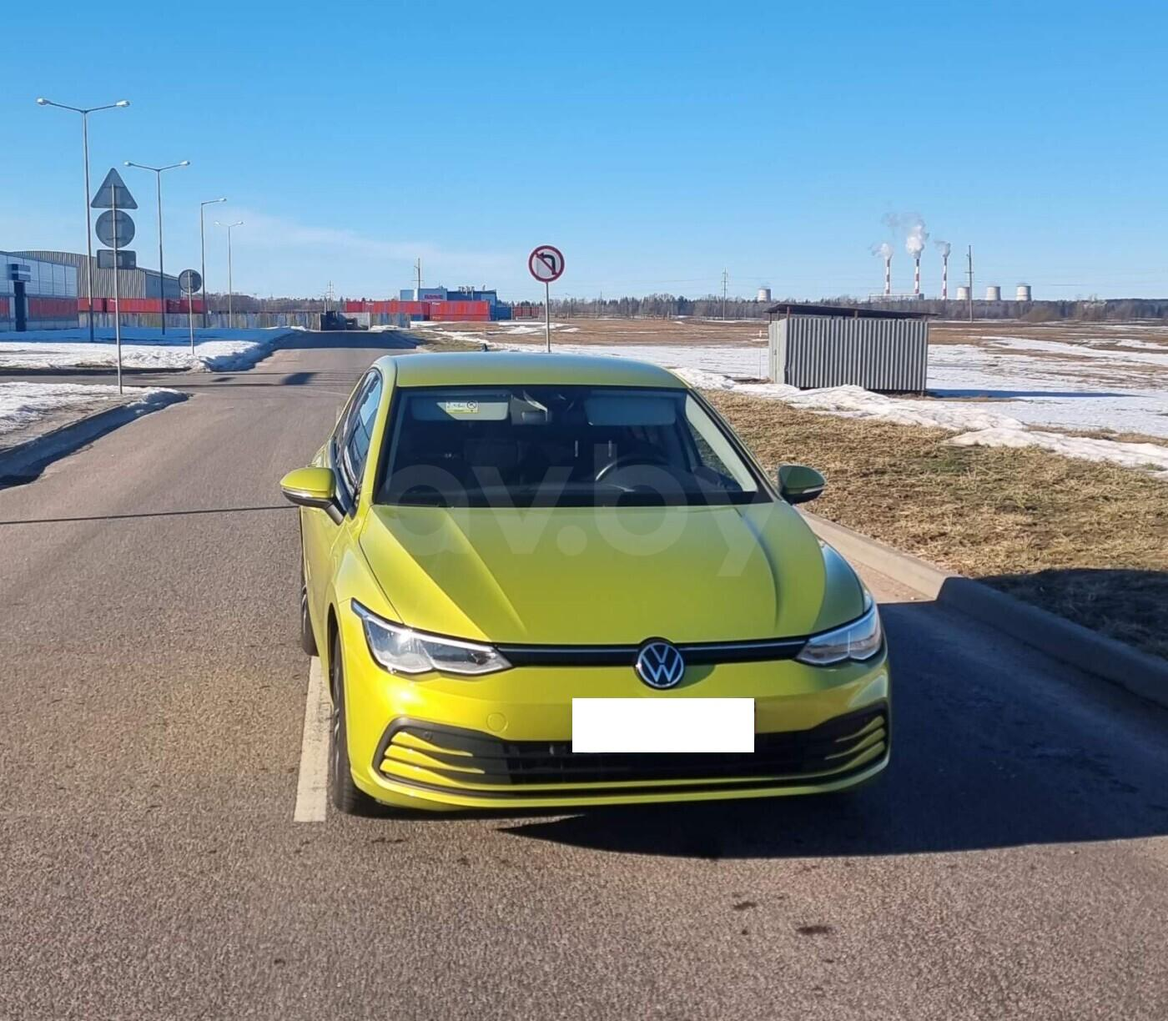Golf_2019: (278, 352, 905, 823)
